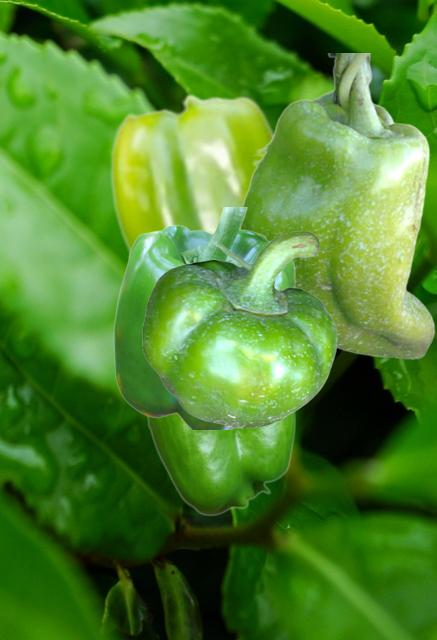bell_pepper: (241, 53, 434, 358), (113, 207, 294, 428), (142, 230, 336, 427), (110, 93, 274, 257), (146, 413, 295, 515)
